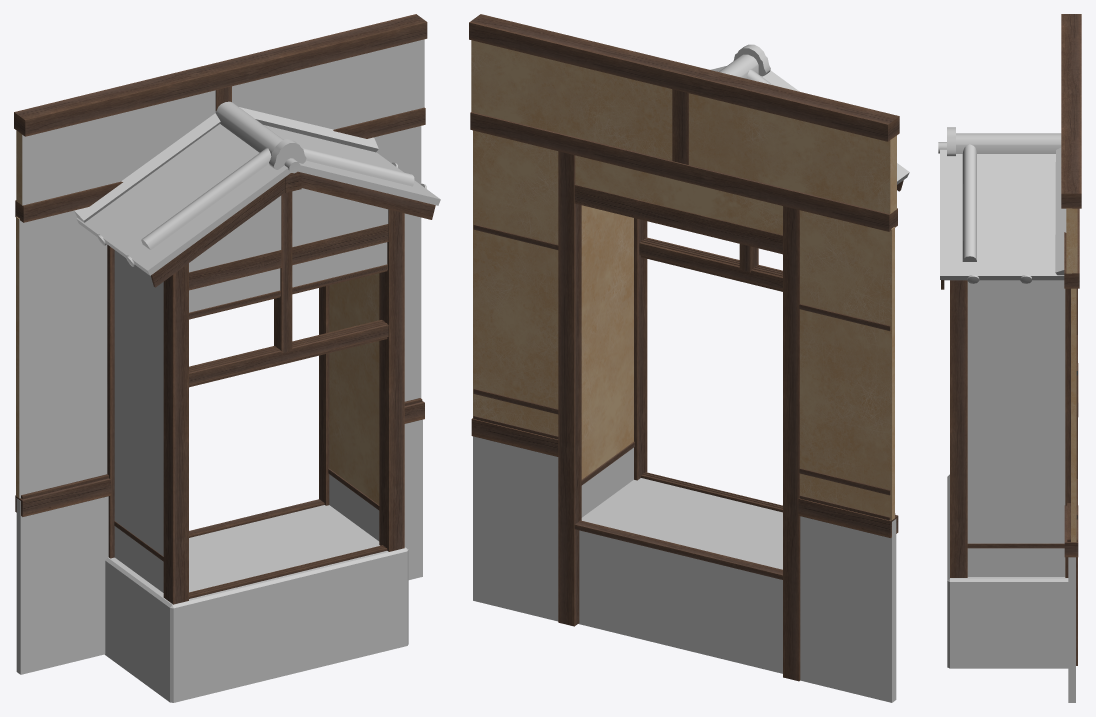
Rendered from kawara_entrance_1ta.fbx.
The picture shows the model from 3 angles, left to right: view 1: azimuth 30°, elevation 25°; view 2: azimuth 150°, elevation 25°; view 3: azimuth 270°, elevation 25°; orthographic projection. The views are drawn at different scales.
Visible parts, largest first — view 1: kawara_entrance_1ta; view 2: kawara_entrance_1ta; view 3: kawara_entrance_1ta.
Part boxes in pixels (left/top/right/bottom): kawara_entrance_1ta: left=14, top=14, right=440, bottom=702; kawara_entrance_1ta: left=469, top=14, right=909, bottom=702; kawara_entrance_1ta: left=938, top=14, right=1081, bottom=702.
Size of the model in its own units: 441 by 584 by 149.
